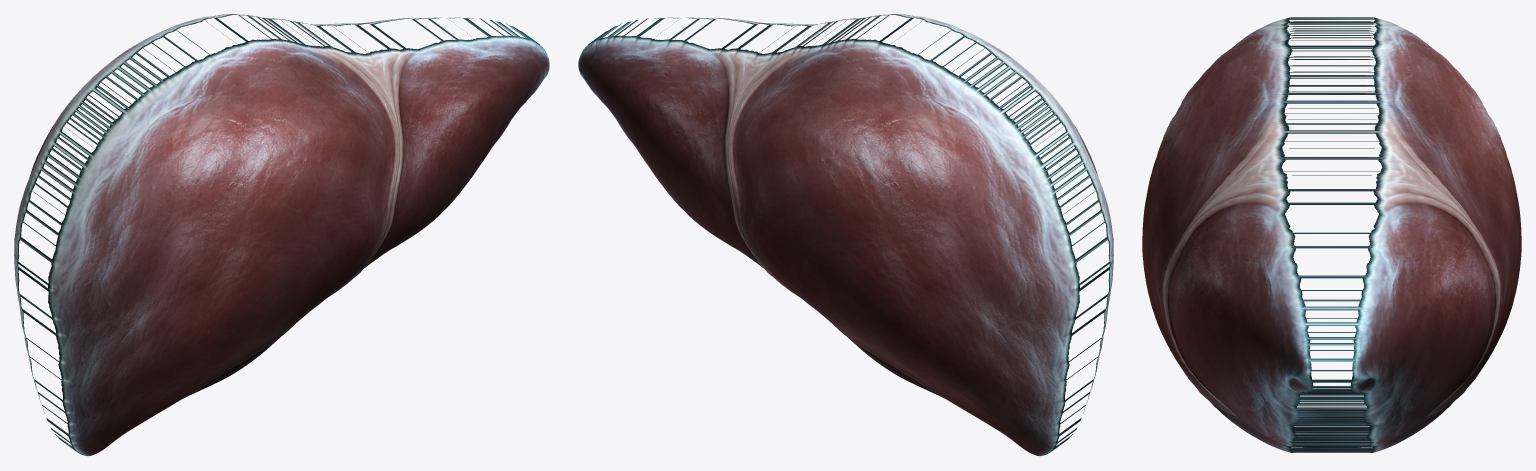
The model's file is image-liver.glb.
3 views of the same model, side by side, from view 1: azimuth 30°, elevation 25°; view 2: azimuth 150°, elevation 25°; view 3: azimuth 270°, elevation 25° (orthographic). The views are drawn at different scales.
Parts seen in each view (by area): view 1: liver; view 2: liver; view 3: liver.
Part boxes in pixels (<box>): liver: <box>14,14,549,455</box>; liver: <box>578,14,1113,455</box>; liver: <box>1142,17,1521,452</box>.
Bounding box in the file's own units: 2 × 1.45 × 0.9889.
Materials: 1 (1 with a texture image).
